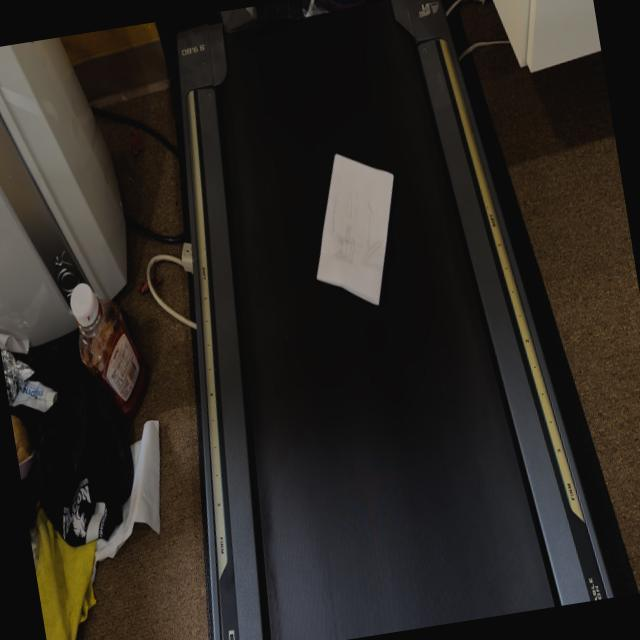Recycle: (300, 143, 415, 315)
